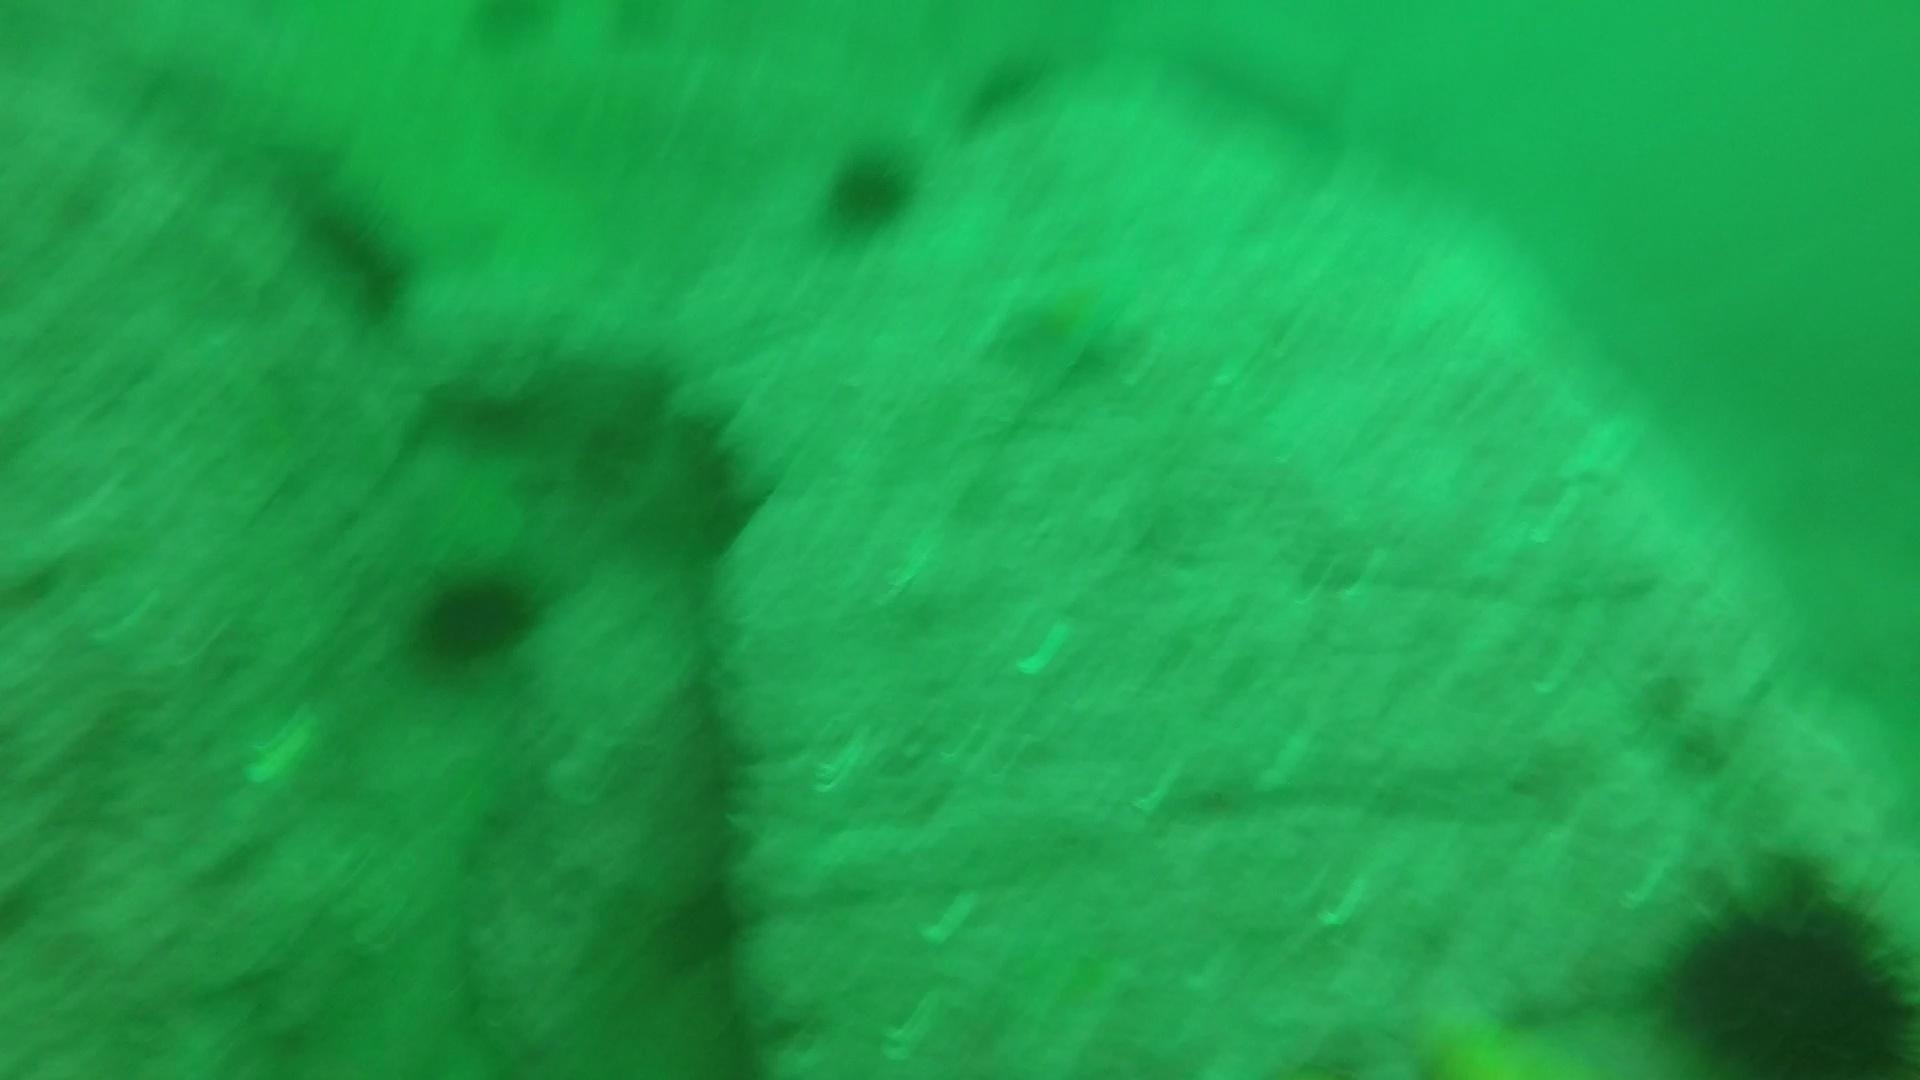echinus: (1648, 861, 1920, 1076), (294, 183, 423, 324), (406, 560, 546, 670), (815, 138, 922, 240), (956, 45, 1055, 132), (456, 1, 563, 59)
starfish: (981, 257, 1147, 388)
